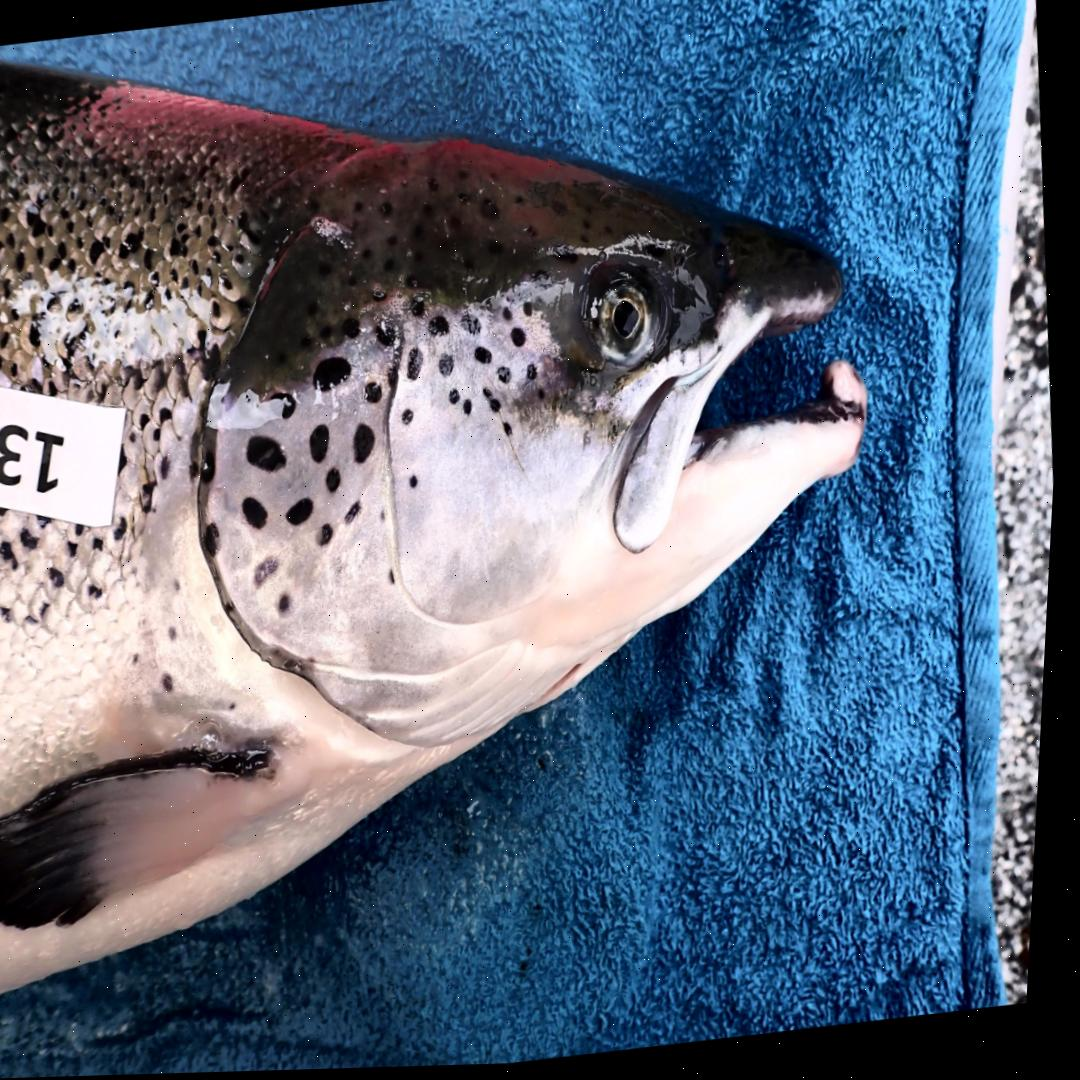spot: (250, 437, 291, 472), (317, 359, 355, 393), (358, 426, 380, 465), (247, 498, 272, 530), (314, 425, 334, 464), (274, 393, 301, 420), (291, 499, 317, 527), (260, 559, 284, 587), (409, 351, 427, 383), (379, 322, 399, 349), (208, 524, 224, 557), (205, 451, 220, 486), (464, 316, 484, 338), (321, 524, 338, 548), (442, 356, 458, 380), (431, 319, 452, 337), (350, 503, 365, 527), (390, 364, 403, 391), (368, 384, 384, 405), (477, 349, 495, 367), (331, 470, 344, 494), (513, 331, 529, 348), (413, 301, 427, 319), (284, 595, 295, 616), (500, 370, 513, 387), (405, 412, 418, 428), (506, 423, 516, 442), (492, 400, 504, 415), (452, 390, 464, 405), (485, 389, 497, 404), (530, 367, 540, 382), (412, 476, 422, 491), (392, 572, 402, 586), (466, 403, 475, 418), (540, 389, 549, 404), (506, 309, 515, 323), (525, 306, 534, 318), (385, 512, 390, 523)
